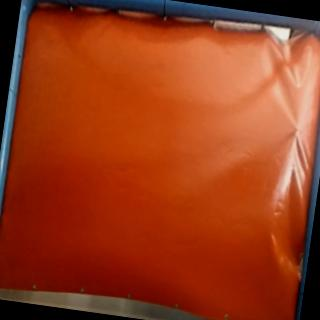Hit-hRxx: (288, 121, 306, 139)
